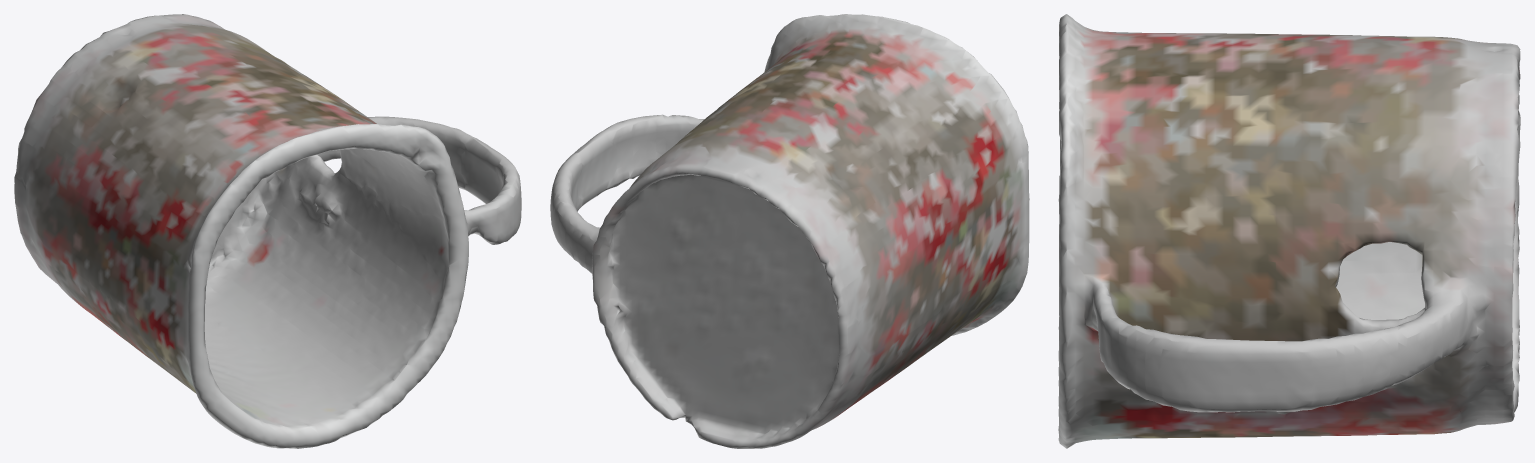
Rendered from a mug with grasp affordance.obj.
3 views of the same model, side by side, from view 1: azimuth 30°, elevation 25°; view 2: azimuth 150°, elevation 25°; view 3: azimuth 270°, elevation 25° (orthographic). The views are drawn at different scales.
Bounding box in the file's own units: 1.01 × 0.8006 × 0.8577.
